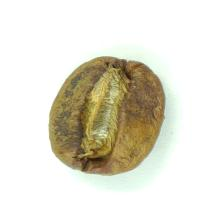NG: (58, 68, 151, 167)
